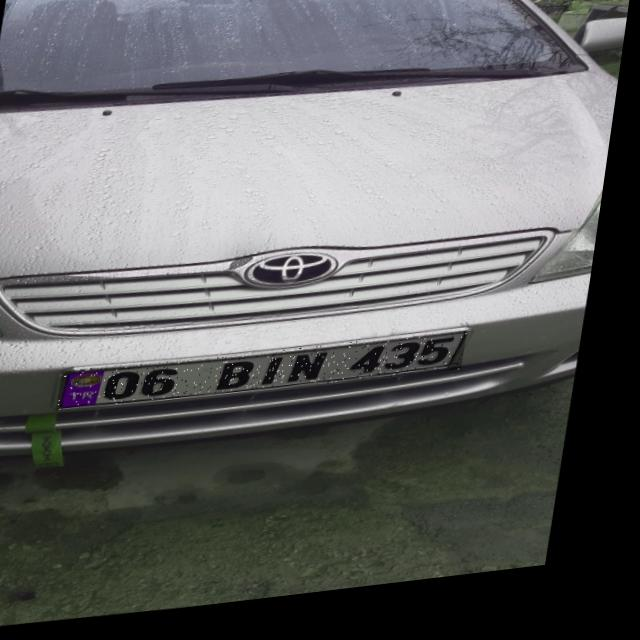license_plate: (67, 336, 479, 420)
